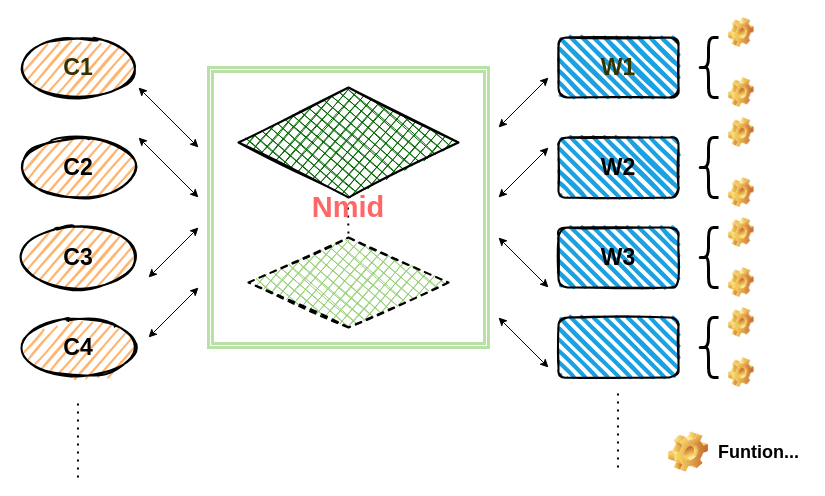
The diagram is 825 pixels wide and 496 high, and some of its shapes have lost their labels. Here are the shapes that lost their labels. From the top down, the centre of each, then its label:
(348,142): N1
(348,282): N2
(618,347): W4
